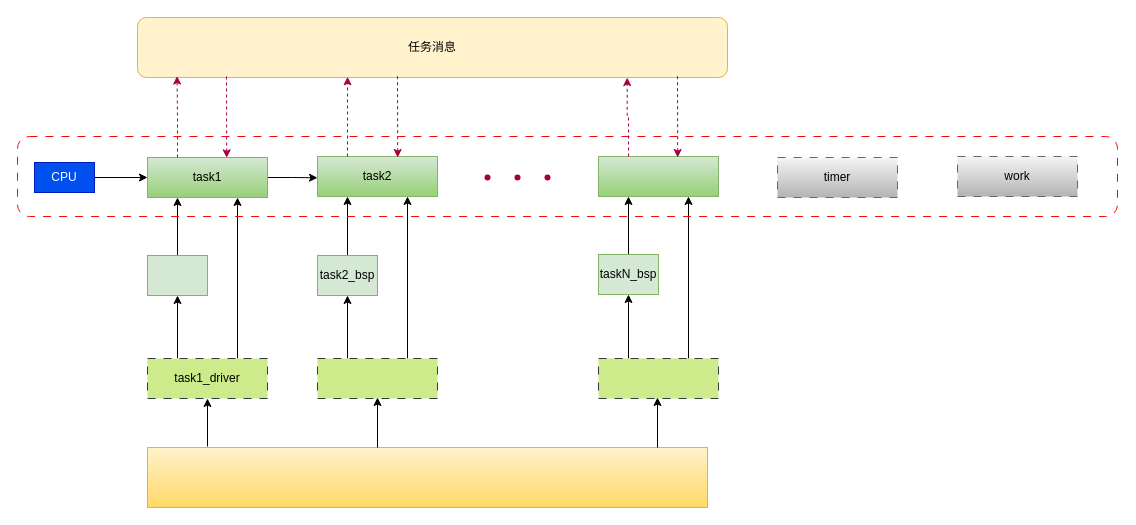
The diagram is 1136 pixels wide and 525 high, and some of its shapes have lost their labels. The shapes that lost their labels are listed below. From the top down, each one's box as (x1, y1, x2, y2) in pixels, then its label:
(598, 156, 718, 196): taskN
(146, 254, 208, 296): task1_bsp
(316, 358, 438, 398): task2_driver
(598, 358, 718, 398): taskN_driver
(146, 446, 708, 508): 芯片SDK库，CMISS,startup
